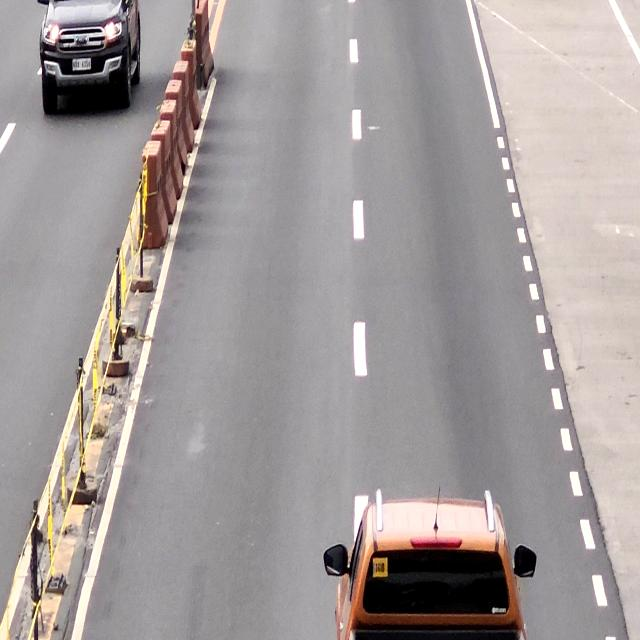Car: (322, 490, 536, 640)
